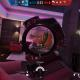Character: (38, 38, 44, 47)
Head: (39, 38, 40, 40)
